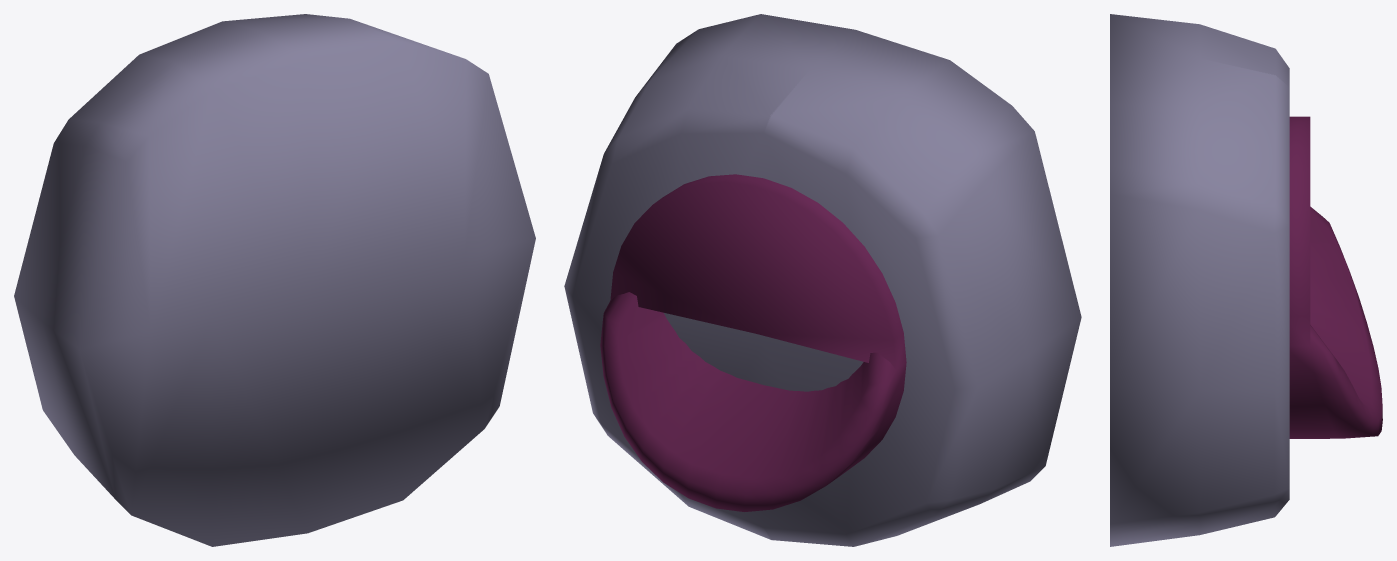
File: TankTurret.fbx
The picture shows the model from 3 angles, left to right: view 1: azimuth 30°, elevation 25°; view 2: azimuth 150°, elevation 25°; view 3: azimuth 270°, elevation 25°; orthographic projection. The views are drawn at different scales.
Parts seen in each view (by area): view 1: Turret; view 2: Turret; view 3: Turret.
Boxes of the visible parts, x1=… form: Turret: x1=14, y1=14, x2=535, y2=546; Turret: x1=564, y1=14, x2=1081, y2=546; Turret: x1=1110, y1=14, x2=1382, y2=546.
Size of the model in its own units: 374 by 371 by 199.
